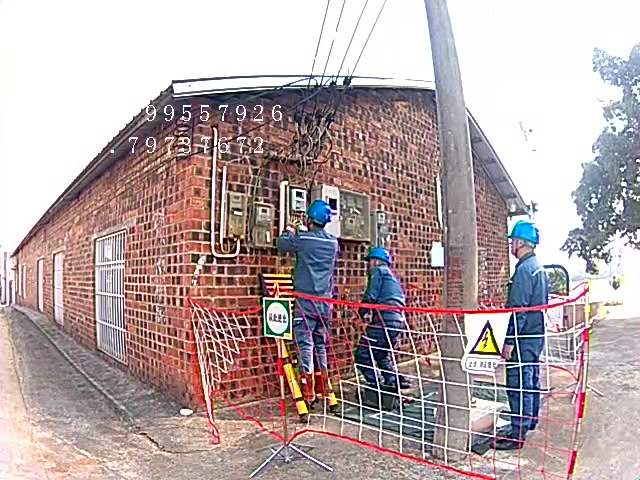downsuit: (499, 338, 545, 426), (354, 320, 402, 383), (291, 300, 331, 365)
halt: (506, 221, 541, 256), (307, 199, 336, 225), (367, 247, 392, 268)
hand: (500, 344, 515, 360)
inear: (514, 238, 527, 254)
intosign: (261, 298, 291, 337)
person: (500, 219, 565, 443), (276, 199, 344, 382), (355, 245, 411, 391)
shoe: (295, 372, 315, 399), (312, 373, 334, 395)
upsuit: (278, 229, 342, 295), (508, 256, 554, 340), (360, 265, 408, 317)
